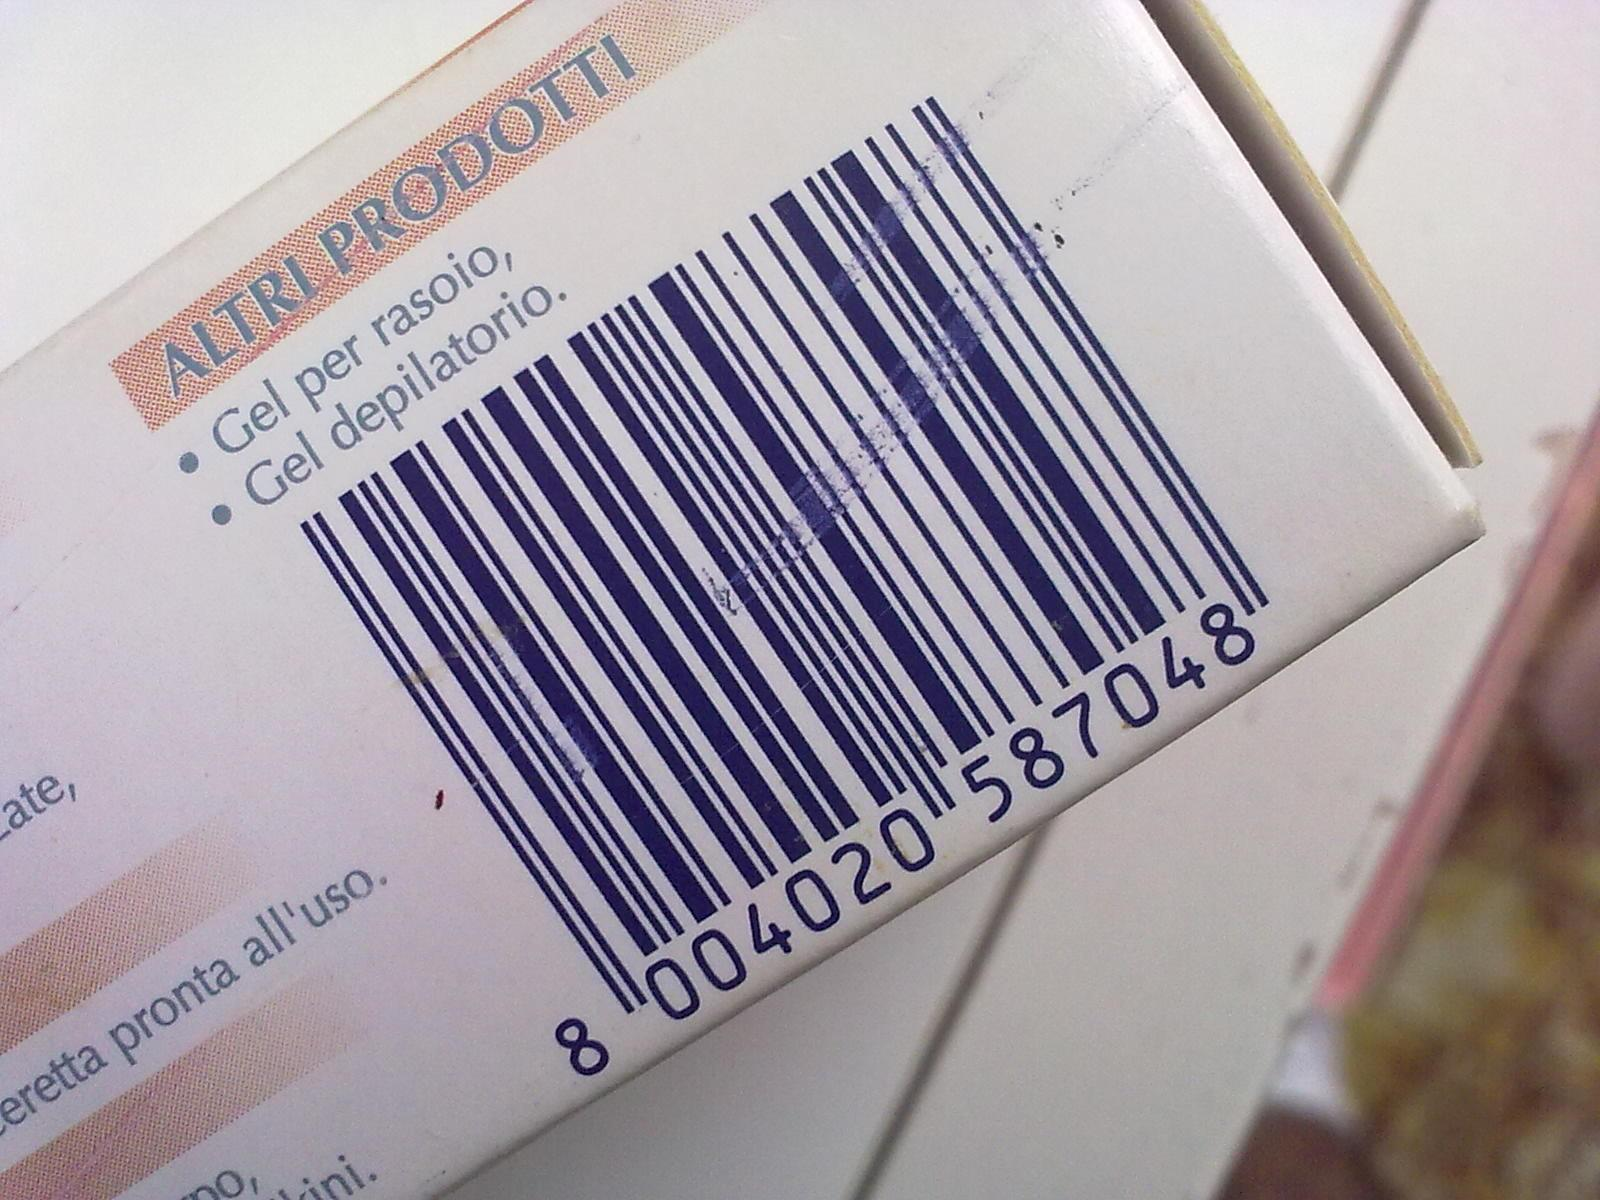barcode: (297, 89, 1274, 1089)
